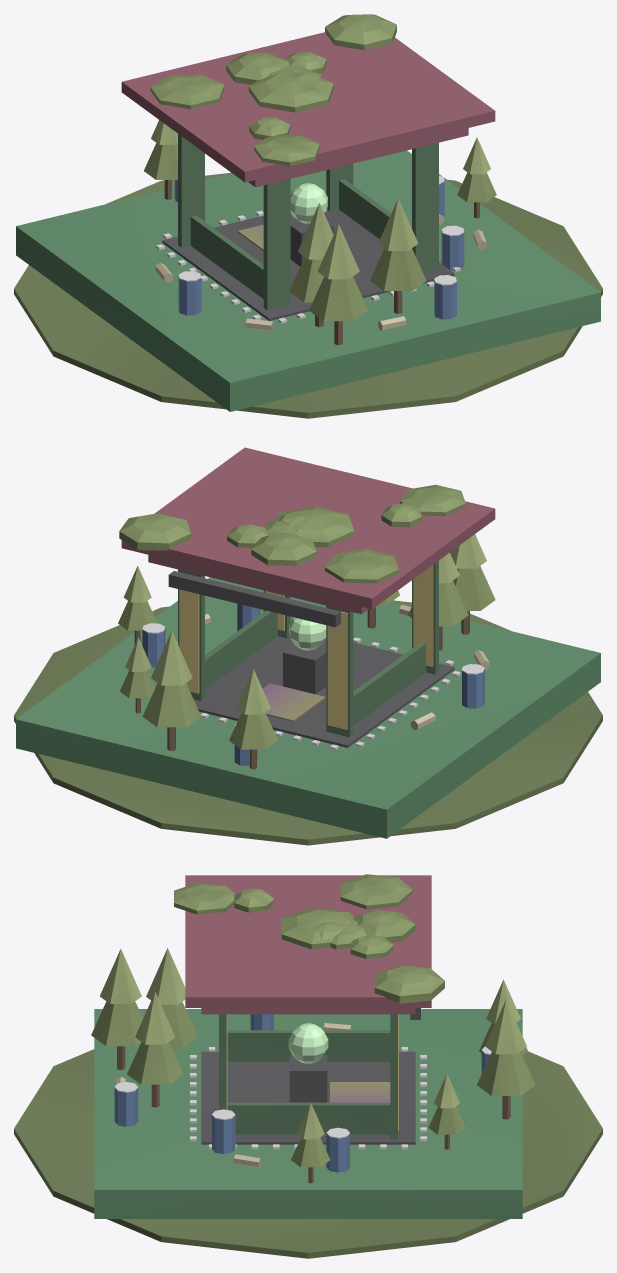
The model's file is CircuitGroveShrine.fbx.
3 renders of one model, top to bottom at view 1: azimuth 30°, elevation 25°; view 2: azimuth 150°, elevation 25°; view 3: azimuth 270°, elevation 25°, orthographic.
Parts seen in each view (by area): view 1: Bld_CircuitGroveShrine, Bld_CircuitGroveShrine_Roof; view 2: Bld_CircuitGroveShrine, Bld_CircuitGroveShrine_Roof; view 3: Bld_CircuitGroveShrine, Bld_CircuitGroveShrine_Roof.
Boxes of the visible parts, <box> form: Bld_CircuitGroveShrine: <box>14,120,602,418</box>; Bld_CircuitGroveShrine_Roof: <box>121,14,495,187</box>; Bld_CircuitGroveShrine: <box>14,534,602,845</box>; Bld_CircuitGroveShrine_Roof: <box>119,447,495,627</box>; Bld_CircuitGroveShrine: <box>14,948,602,1258</box>; Bld_CircuitGroveShrine_Roof: <box>174,874,444,1019</box>.
Size of the model in its own units: 11 by 4.37 by 11.
